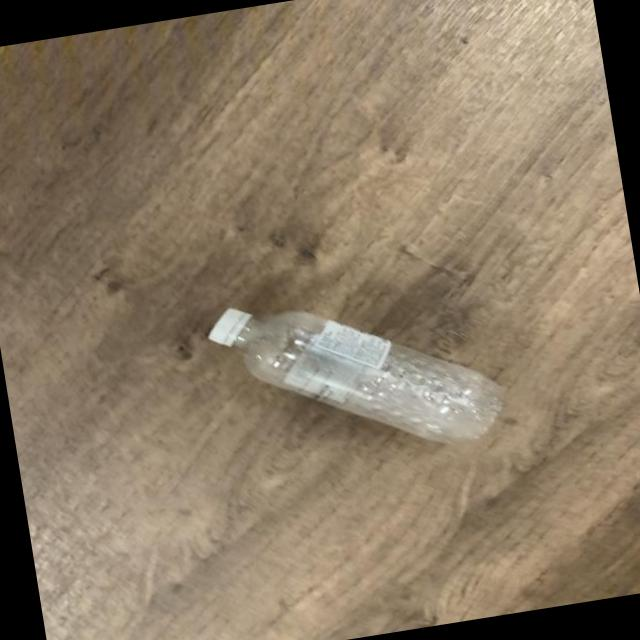BotolPlastik: (203, 265, 516, 483)
